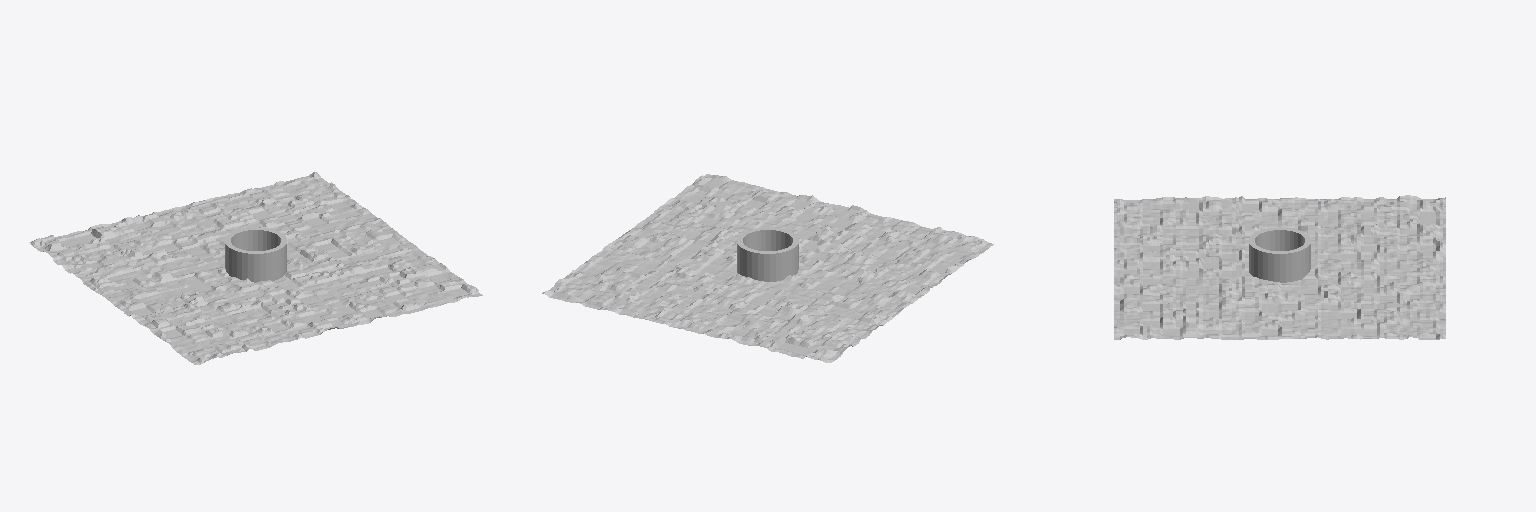
The model's file is terrain_squares.obj.
3 views of the same model, side by side, from view 1: azimuth 30°, elevation 25°; view 2: azimuth 150°, elevation 25°; view 3: azimuth 270°, elevation 25° (orthographic).
Visible parts, largest first — view 1: Plane, Circle; view 2: Plane, Circle; view 3: Plane, Circle.
Boxes of the visible parts, x1,y1,x2,y2 form: Plane: [29, 172, 482, 364]; Circle: [225, 227, 286, 282]; Plane: [542, 174, 993, 362]; Circle: [737, 227, 798, 281]; Plane: [1114, 195, 1445, 339]; Circle: [1249, 227, 1310, 282].
Size of the model in its own units: 150 by 15.24 by 150.